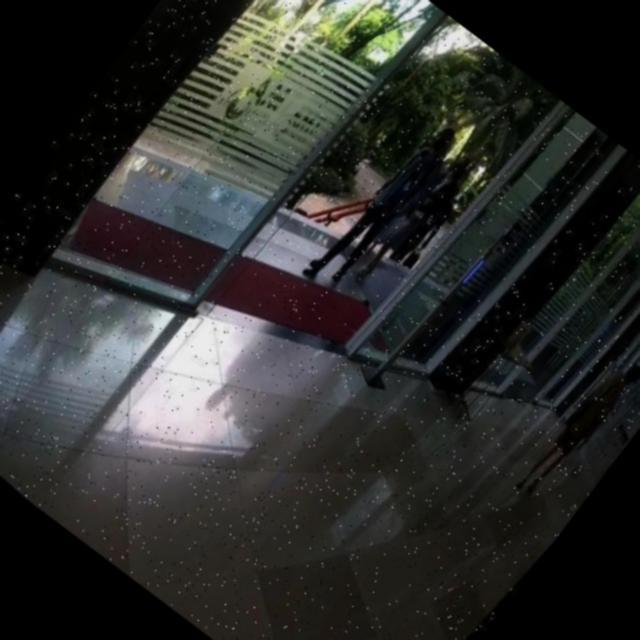person: (310, 108, 468, 296), (506, 345, 640, 515), (349, 141, 480, 296)
